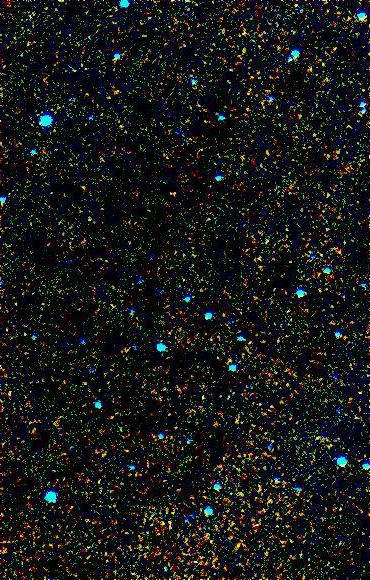star: (167, 179, 197, 209)
